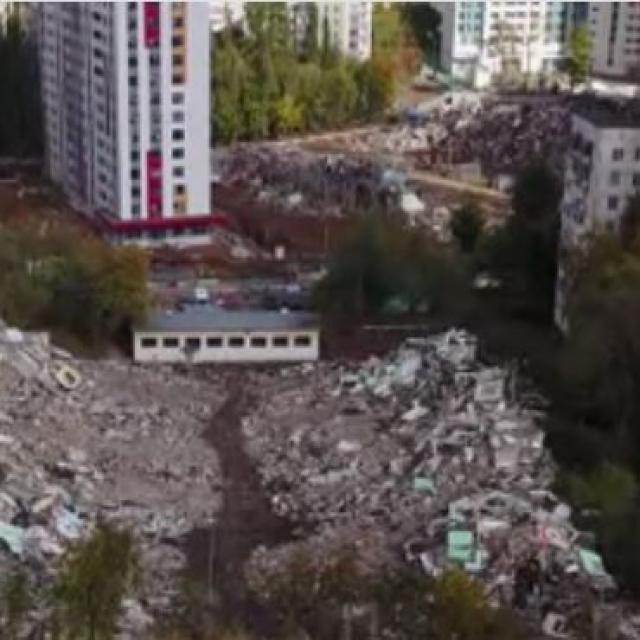collapsed_building: (0, 339, 557, 638), (228, 90, 562, 265)
